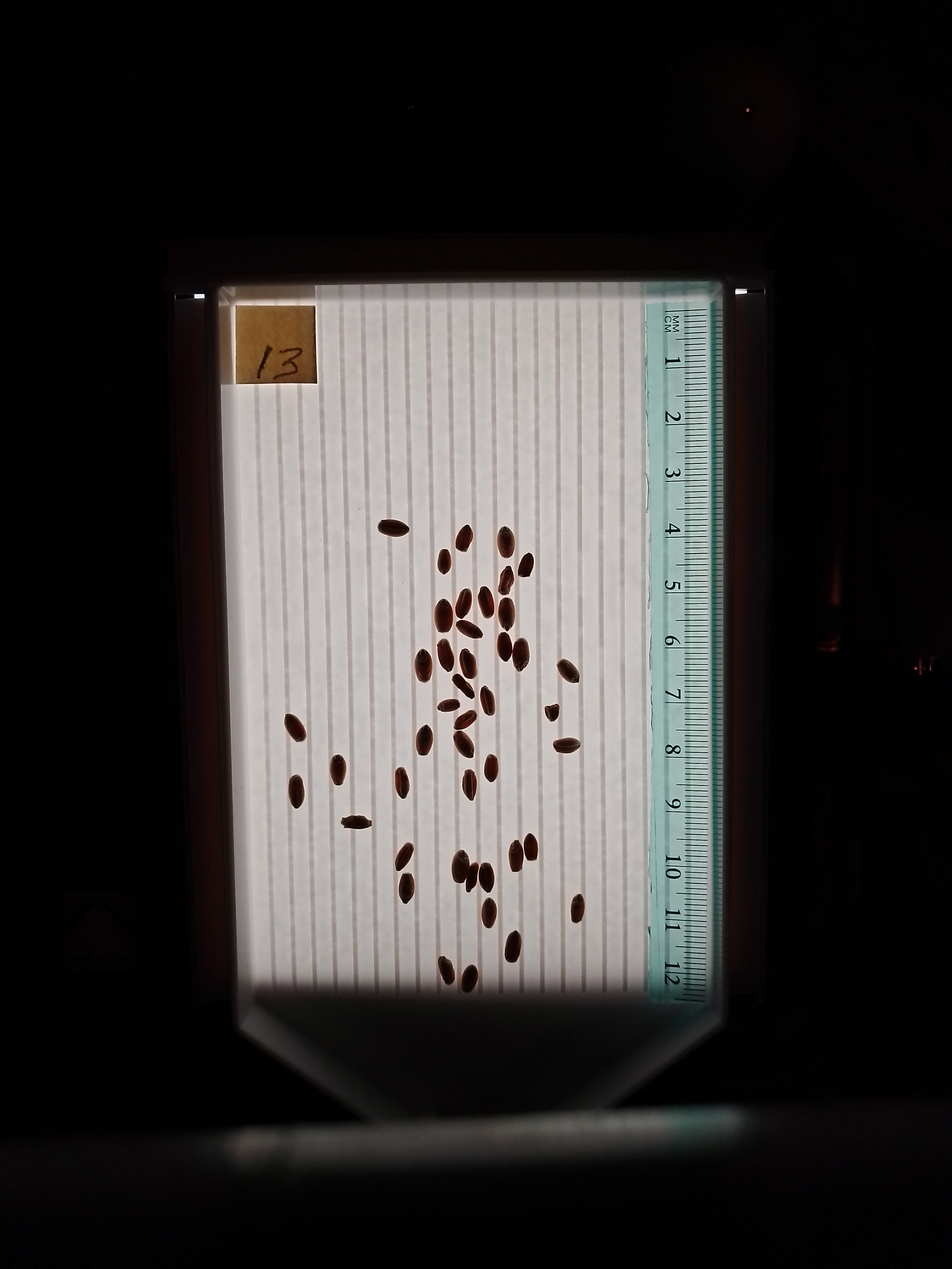seed mask: (284, 714, 306, 743), (434, 600, 453, 633), (288, 775, 305, 808), (415, 650, 432, 682), (513, 639, 530, 671), (329, 755, 347, 785), (452, 852, 469, 883), (558, 659, 579, 684), (339, 814, 371, 830), (505, 931, 521, 963), (499, 598, 515, 630), (398, 873, 415, 903), (454, 732, 474, 757), (438, 640, 454, 671), (460, 650, 477, 679), (379, 519, 408, 536), (395, 844, 413, 871), (394, 768, 410, 798), (417, 725, 433, 755), (498, 526, 514, 556), (461, 964, 478, 992), (455, 589, 472, 617), (455, 525, 473, 551), (479, 863, 495, 892), (482, 899, 497, 928), (462, 771, 477, 800), (479, 587, 494, 616), (458, 621, 482, 639), (453, 676, 474, 696), (439, 957, 454, 985), (454, 710, 476, 729), (510, 842, 524, 871), (523, 834, 538, 861), (554, 737, 579, 753), (571, 894, 585, 922), (481, 687, 495, 715), (484, 755, 499, 781), (499, 568, 513, 595), (498, 634, 512, 661), (519, 554, 534, 577), (438, 550, 451, 573), (467, 864, 478, 890), (439, 698, 459, 712), (545, 704, 559, 722)
